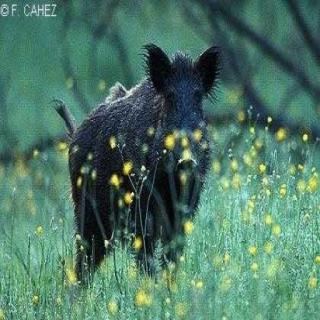Pig: (50, 36, 221, 285)
